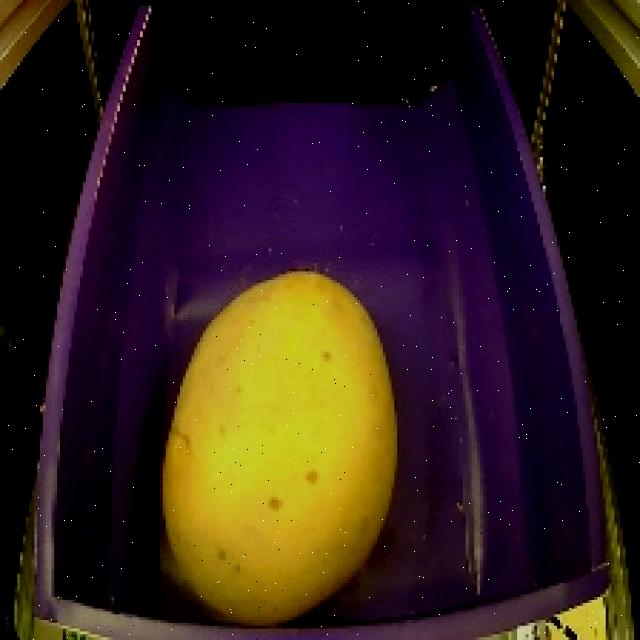full_potato: (148, 264, 408, 635)
